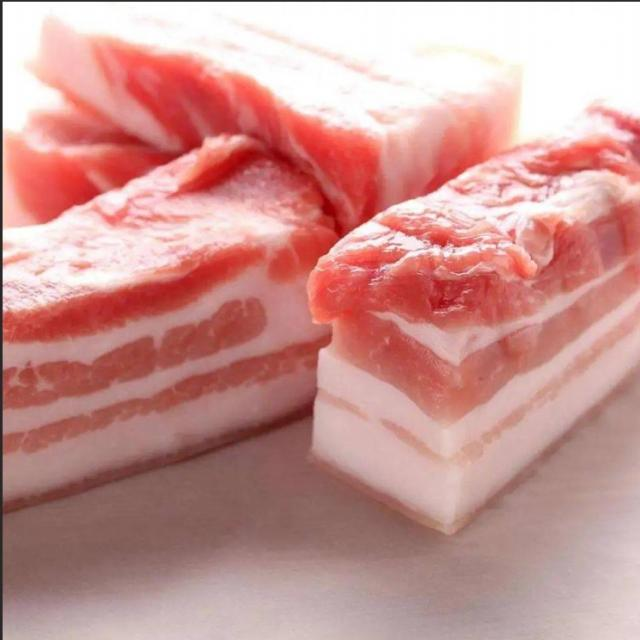pork: (305, 181, 635, 532), (40, 7, 521, 202), (14, 229, 308, 467)
